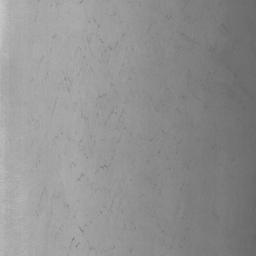Silk spot: (64, 200, 113, 256), (78, 32, 120, 75), (77, 156, 113, 184), (96, 106, 126, 129), (63, 72, 72, 93)
